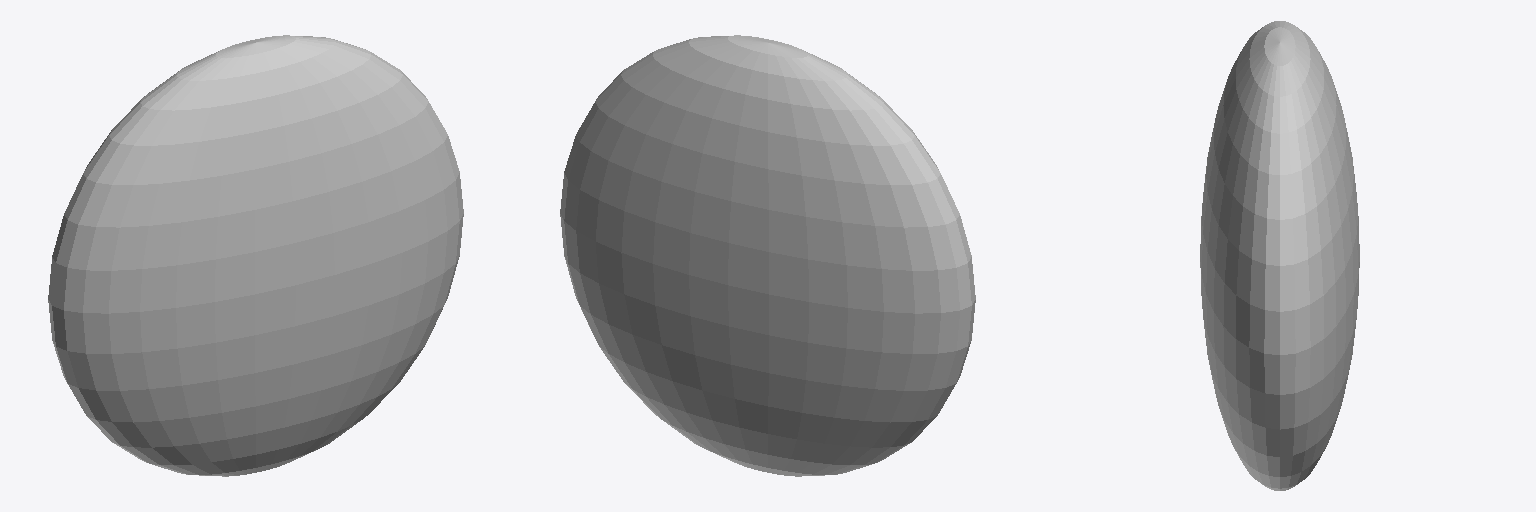
The model's file is lewa.obj.
The picture shows the model from 3 angles: view 1: azimuth 30°, elevation 25°; view 2: azimuth 150°, elevation 25°; view 3: azimuth 270°, elevation 25°; orthographic projection.
Visible parts, largest first — view 1: Sphere.002; view 2: Sphere.002; view 3: Sphere.002.
Part boxes in pixels (left/top/right/bottom): Sphere.002: left=48, top=35, right=463, bottom=476; Sphere.002: left=560, top=35, right=975, bottom=476; Sphere.002: left=1200, top=21, right=1359, bottom=490.
Size of the model in its own units: 2 by 2 by 0.679.